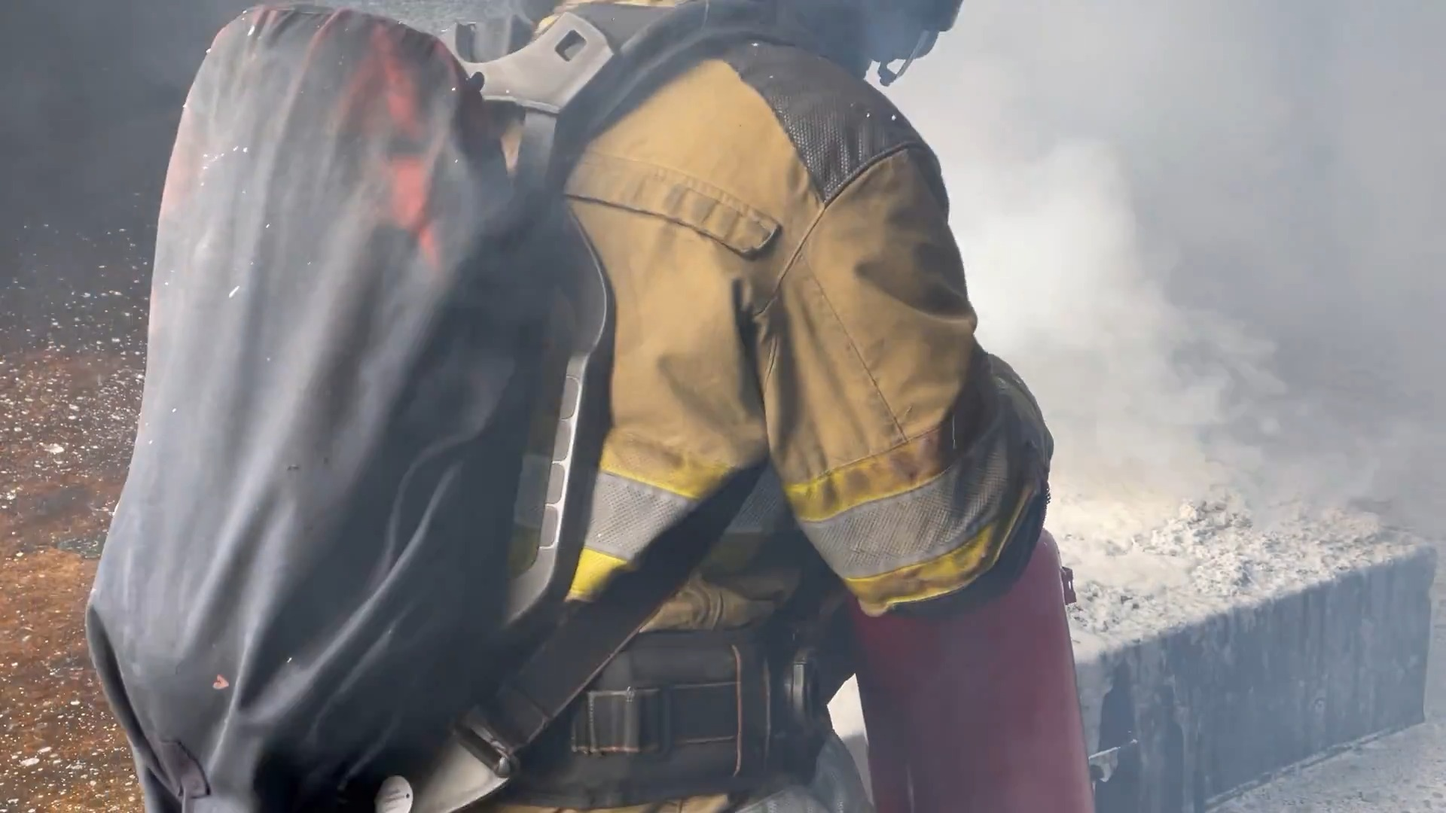smoke: (844, 30, 1435, 643)
